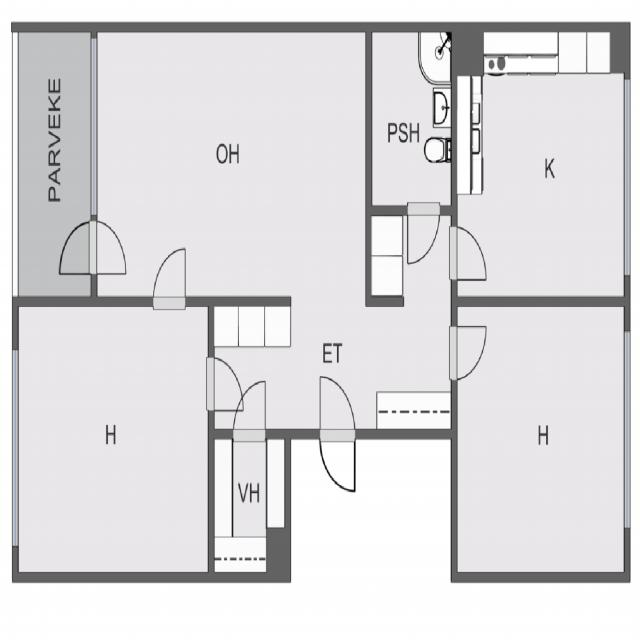door: (318, 363, 357, 438), (318, 428, 357, 502), (151, 239, 186, 306), (58, 219, 98, 273), (207, 356, 247, 410), (91, 219, 130, 273), (451, 327, 489, 381), (406, 204, 438, 268), (233, 375, 265, 438), (451, 226, 489, 279)
